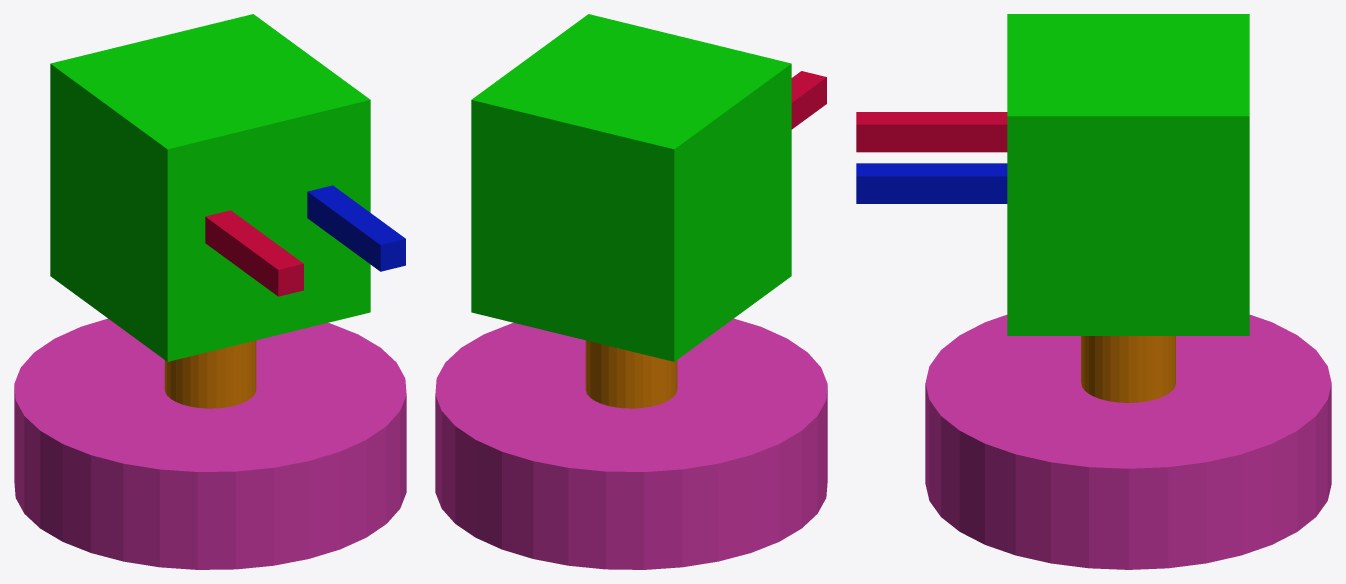
The model's file is turret cannon colored.fbx.
The picture shows the model from 3 angles, left to right: view 1: azimuth 30°, elevation 25°; view 2: azimuth 150°, elevation 25°; view 3: azimuth 270°, elevation 25°; orthographic projection. The views are drawn at different scales.
Visible parts, largest first — view 1: Cube, Cylinder, Cylinder.001, Cube.001, Cube.002; view 2: Cube, Cylinder, Cylinder.001, Cube.001; view 3: Cylinder, Cube, Cube.002, Cube.001, Cylinder.001.
Boxes of the visible parts, x1=… form: Cube: x1=50, y1=14, x2=370, y2=361; Cylinder: x1=14, y1=318, x2=406, y2=569; Cylinder.001: x1=164, y1=340, x2=256, y2=408; Cube.001: x1=205, y1=210, x2=303, y2=296; Cube.002: x1=307, y1=185, x2=405, y2=271; Cube: x1=471, y1=14, x2=791, y2=361; Cylinder: x1=435, y1=318, x2=827, y2=569; Cylinder.001: x1=585, y1=340, x2=677, y2=408; Cube.001: x1=791, y1=71, x2=826, y2=129; Cylinder: x1=925, y1=314, x2=1331, y2=569; Cube: x1=1007, y1=14, x2=1249, y2=335; Cube.002: x1=856, y1=163, x2=1007, y2=203; Cube.001: x1=856, y1=112, x2=1007, y2=152; Cylinder.001: x1=1081, y1=336, x2=1175, y2=402.
Bounding box in the file's own units: 200 × 228 × 234.
